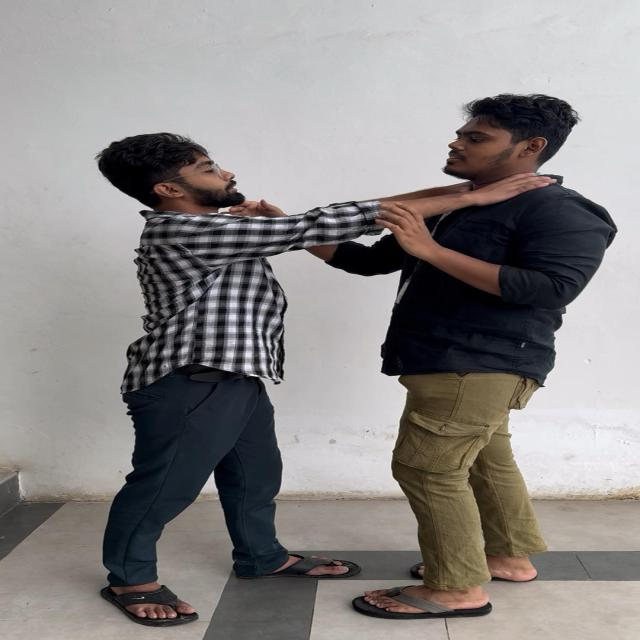fight: (80, 89, 604, 640)
